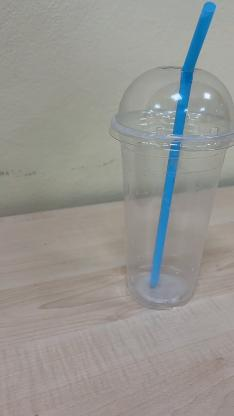Plastic Cup: (108, 63, 234, 311)
